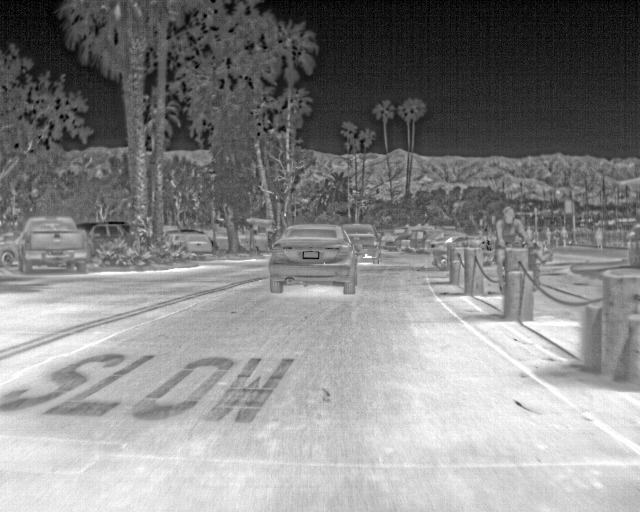bicycle: (271, 223, 357, 295), (15, 213, 93, 273), (431, 236, 496, 269), (75, 222, 129, 249), (341, 222, 380, 257), (409, 225, 439, 253), (382, 227, 405, 250)
empty: (495, 205, 531, 250)
